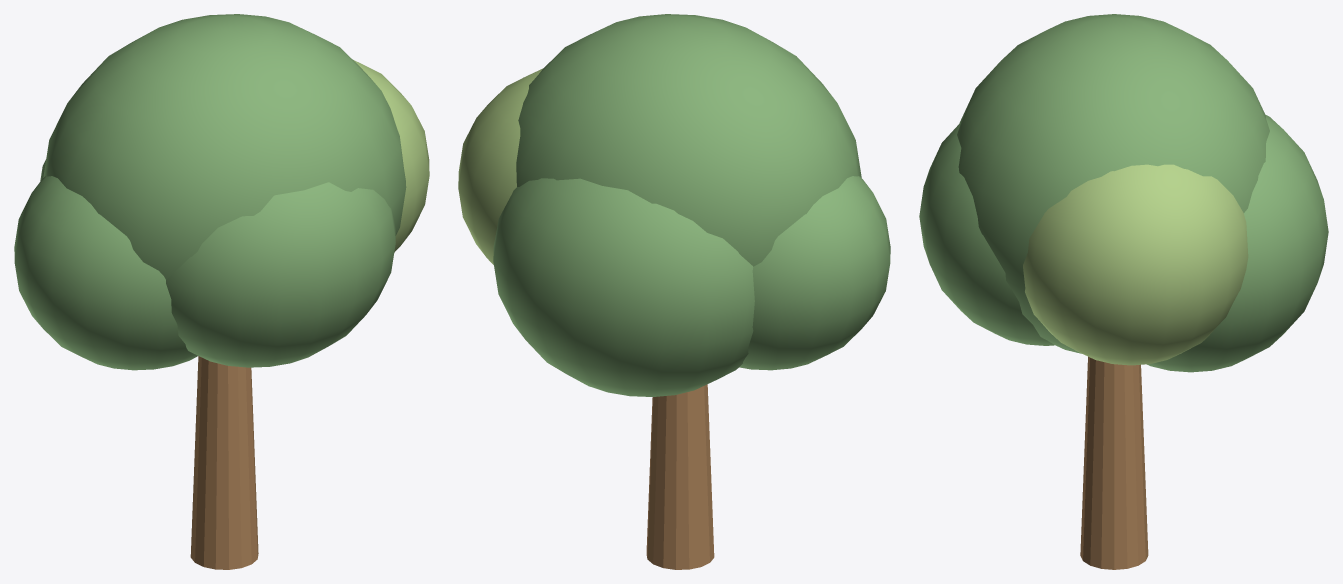
File: tree.glb
3 views of the same model, side by side, from view 1: azimuth 30°, elevation 25°; view 2: azimuth 150°, elevation 25°; view 3: azimuth 270°, elevation 25° (orthographic).
Parts seen in each view (by area): view 1: Sculpted crown, Sculpted crown.004, Sculpted crown.001, Trunk, Sculpted crown.002; view 2: Sculpted crown, Sculpted crown.003, Sculpted crown.001, Trunk, Sculpted crown.002; view 3: Sculpted crown, Sculpted crown.002, Sculpted crown.003, Trunk, Sculpted crown.004.
Boxes of the visible parts, x1,y1,x2,y2 form: Sculpted crown: [43, 14, 406, 279]; Sculpted crown.004: [166, 182, 395, 367]; Sculpted crown.001: [14, 176, 197, 370]; Trunk: [190, 356, 258, 569]; Sculpted crown.002: [353, 60, 429, 252]; Sculpted crown: [516, 14, 861, 266]; Sculpted crown.003: [493, 178, 754, 396]; Sculpted crown.001: [739, 176, 890, 370]; Trunk: [646, 384, 714, 569]; Sculpted crown.002: [458, 68, 542, 264]; Sculpted crown: [957, 14, 1269, 353]; Sculpted crown.002: [1023, 164, 1248, 365]; Sculpted crown.003: [1147, 114, 1328, 372]; Trunk: [1080, 356, 1148, 569]; Sculpted crown.004: [919, 122, 1054, 345].
Bounding box in the file's own units: 2.68 × 3.39 × 2.41.
